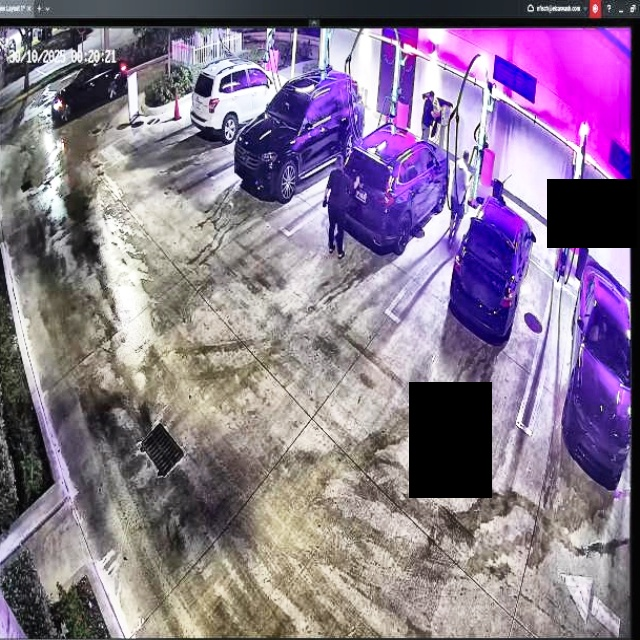Car: (235, 70, 365, 199), (339, 126, 450, 251), (446, 198, 534, 340), (191, 54, 289, 146)
